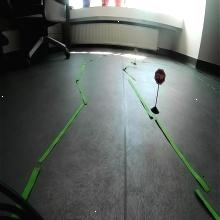stop: (154, 68, 166, 85)
